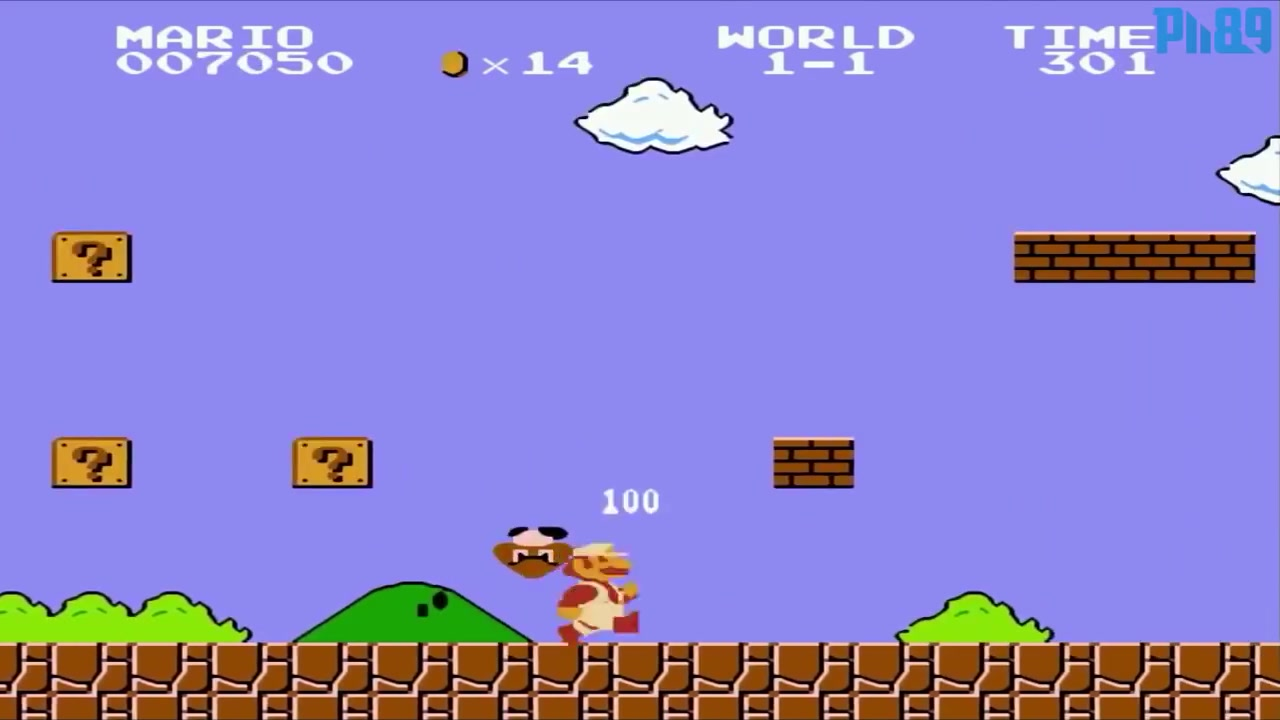mario: (543, 537, 645, 645)
